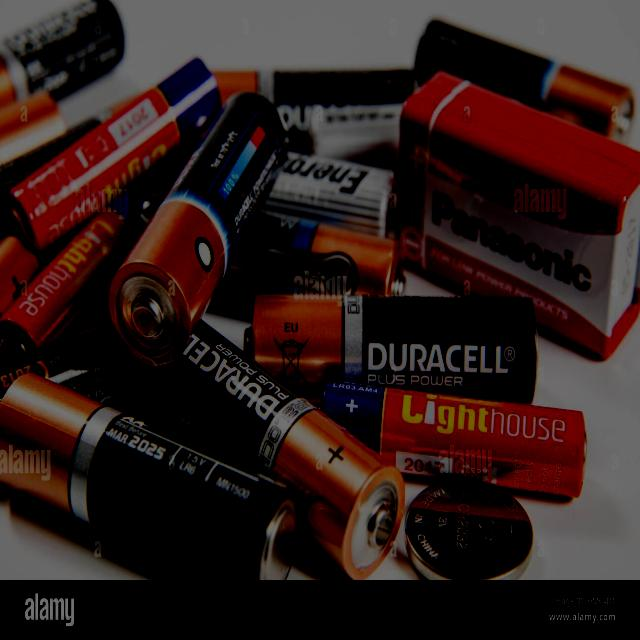AA: (0, 367, 303, 582), (106, 88, 291, 370), (5, 52, 225, 261), (241, 293, 541, 412), (320, 375, 591, 501)
COIN: (400, 477, 537, 582)
